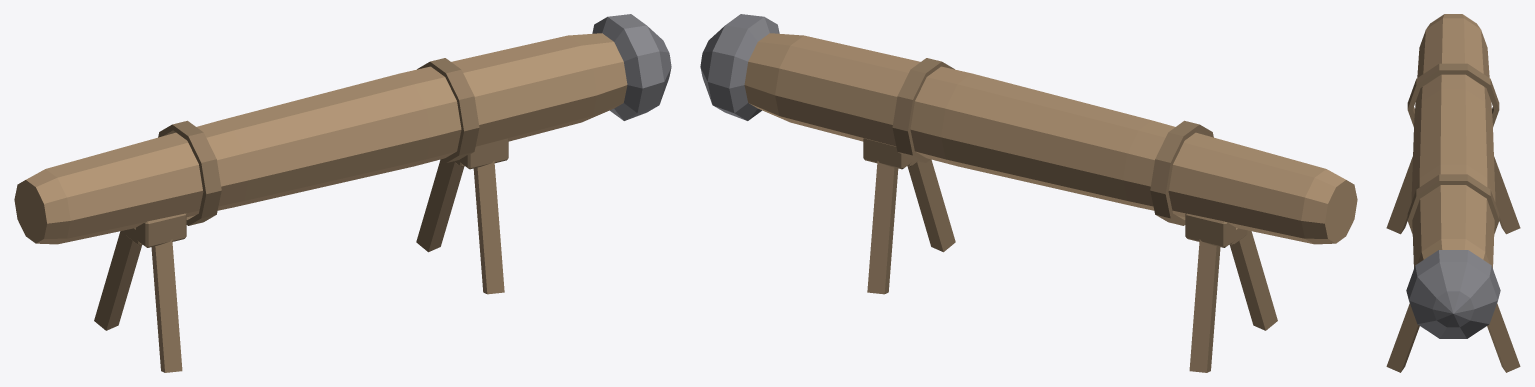
The model's file is prop-battering-ram.fbx.
3 renders of one model, left to right at view 1: azimuth 30°, elevation 25°; view 2: azimuth 150°, elevation 25°; view 3: azimuth 270°, elevation 25°, orthographic. The views are drawn at different scales.
Parts seen in each view (by area): view 1: prop-battering-ram; view 2: prop-battering-ram; view 3: prop-battering-ram.
Boxes of the visible parts, bbox=[...] form: prop-battering-ram: bbox=[14, 14, 671, 372]; prop-battering-ram: bbox=[700, 14, 1357, 372]; prop-battering-ram: bbox=[1386, 14, 1520, 372].
Bounding box in the file's own units: 2.48 × 0.7806 × 0.5113.
